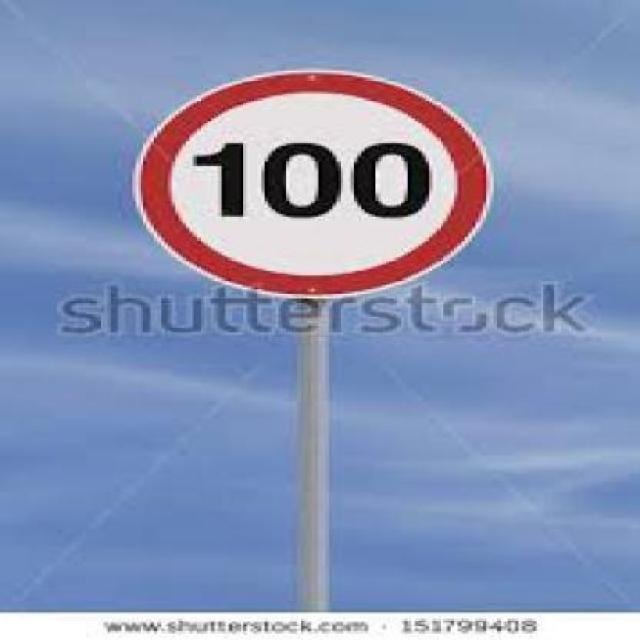forb_speed_over_100: (143, 98, 469, 292)
